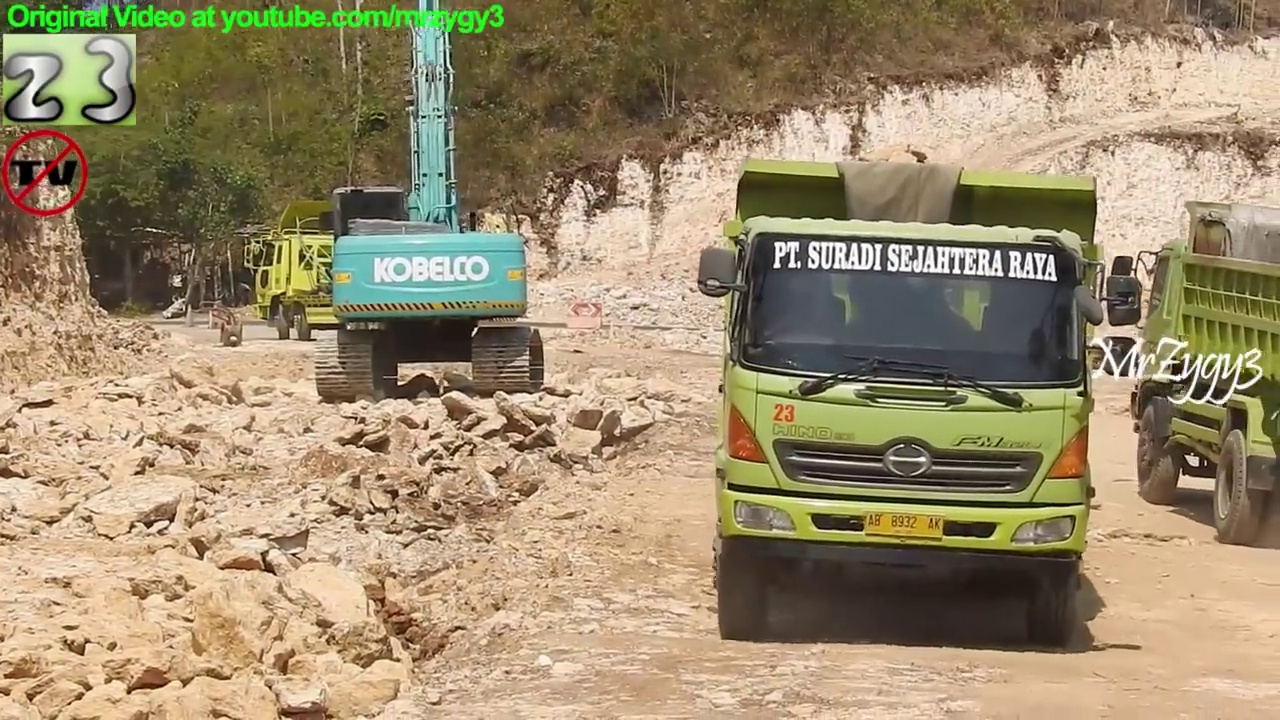excavator: (310, 2, 551, 402)
truck: (695, 157, 1146, 651), (1112, 196, 1280, 546), (238, 196, 534, 344)
